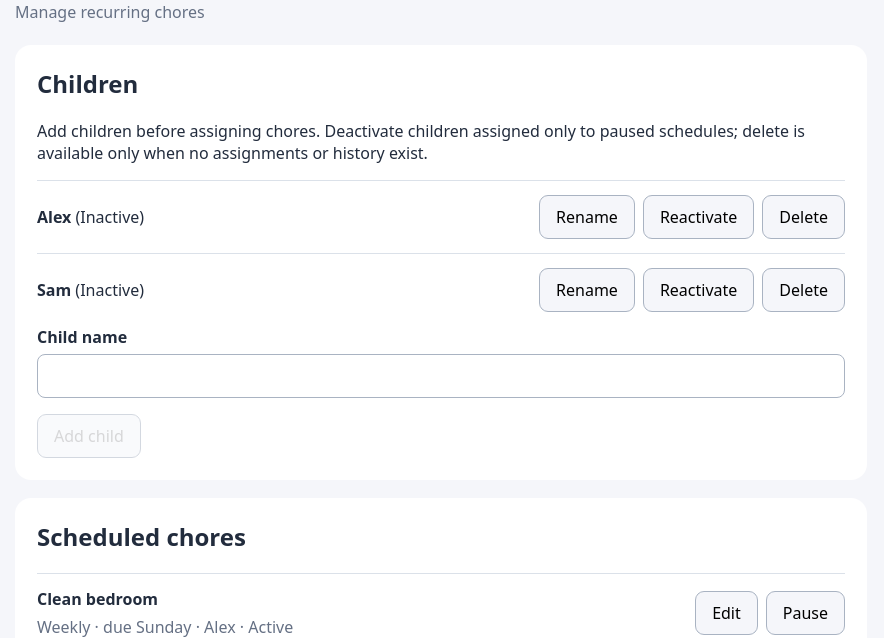
Test case: concurrent parent operations › submits an exception only once while its first save is pending
Check: the text "Clean bedroom" is shown, box x1=37 y1=588 x2=158 y2=610
Click the button "Edit": (726, 613) x1=695 y1=591 x2=758 y2=635
(page scrolled)
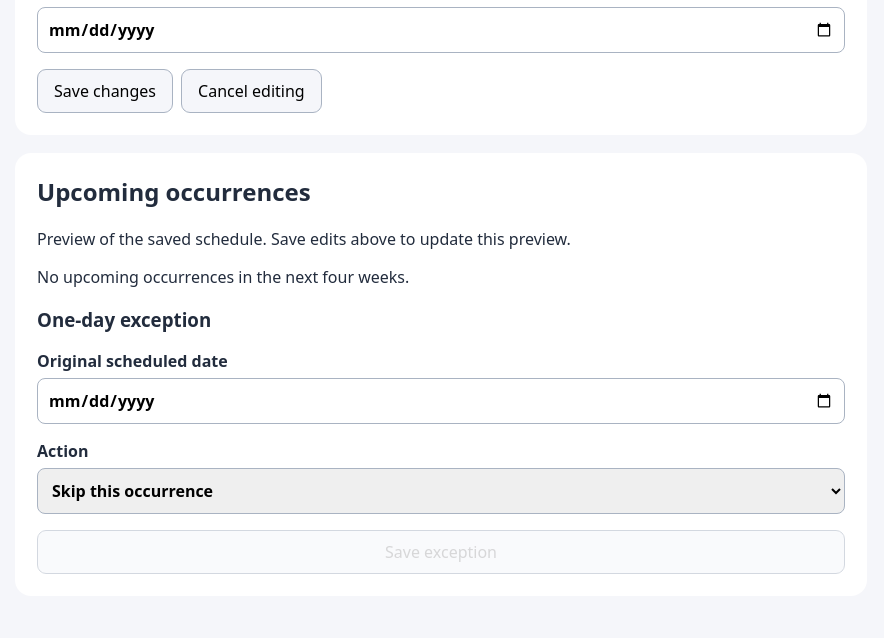
Check: the text "No upcoming occurrences in the next four weeks." is shown, box x1=37 y1=266 x2=409 y2=288
In the date field labelled "Original scheduled date": (441, 401) x1=37 y1=378 x2=845 y2=424, type "2099-01-05"
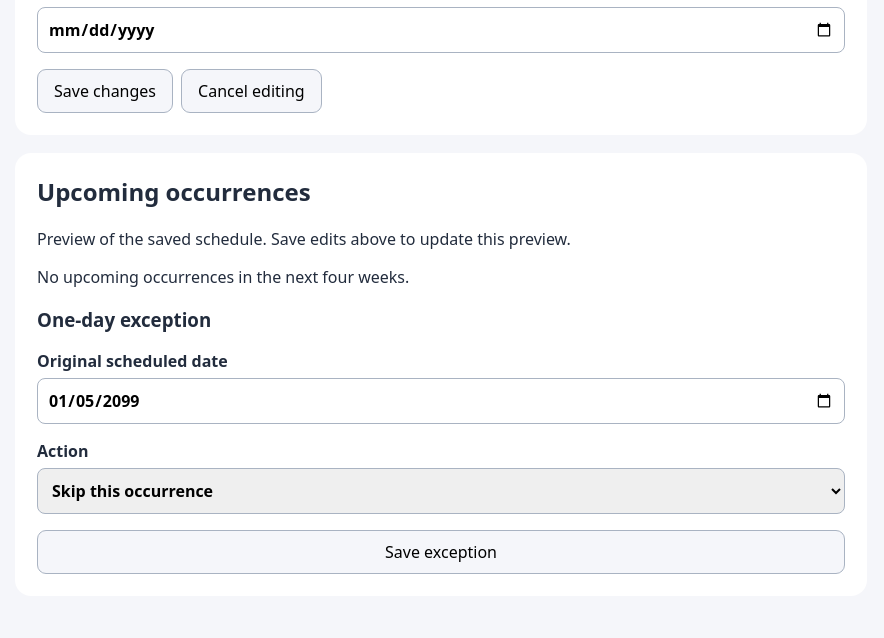
Submit the form "Save exception", box x1=37 y1=350 x2=845 y2=574
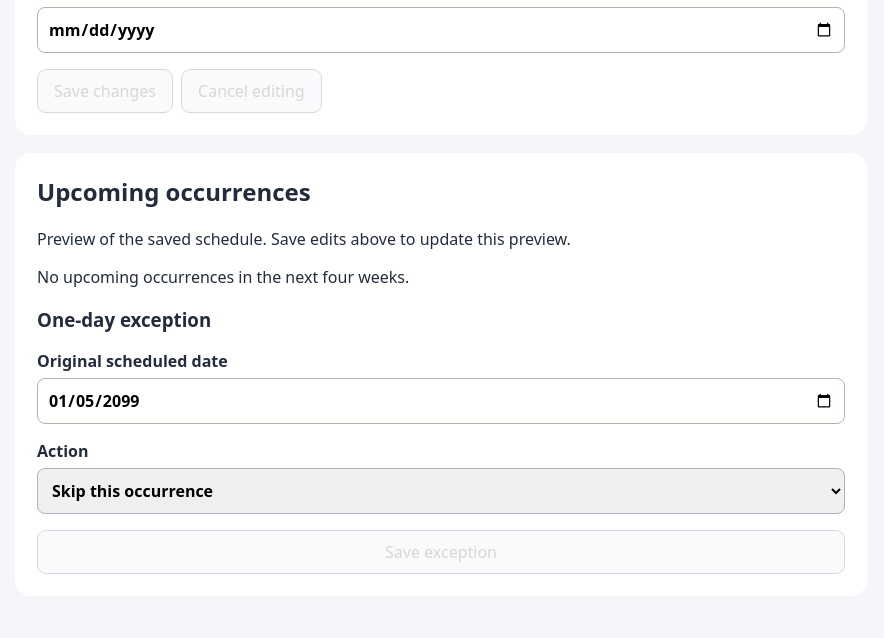
Check: the button "Save exception" is disabled, box x1=37 y1=530 x2=845 y2=574
Submit the form "Save exception", box x1=37 y1=350 x2=845 y2=574
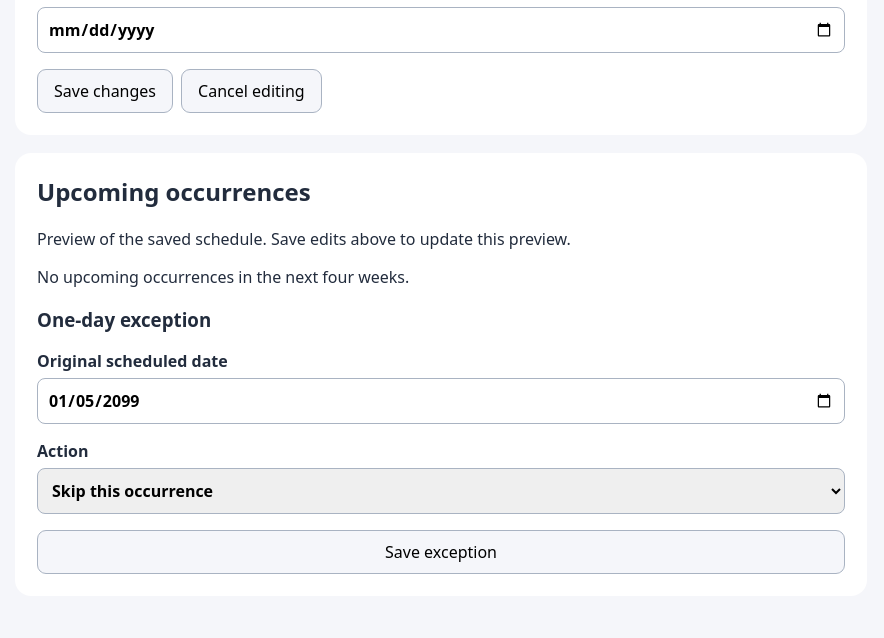
Check: the button "Save exception" is enabled, box x1=37 y1=530 x2=845 y2=574
